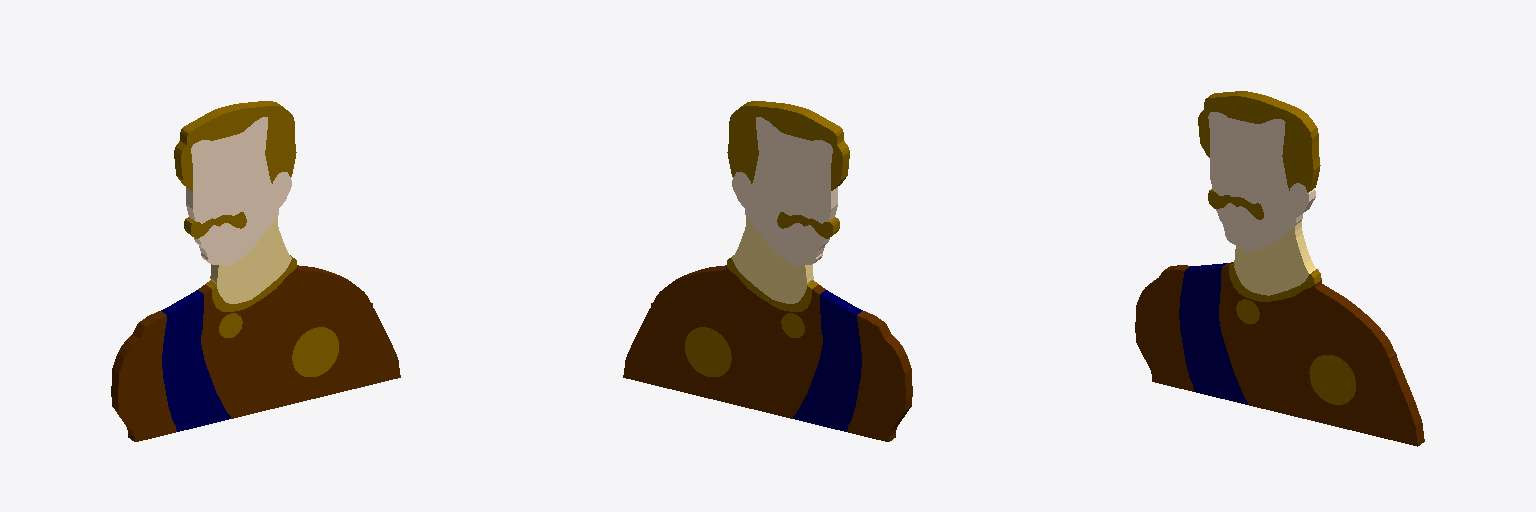
Rendered from 3carlo.obj.
The picture shows the model from 3 angles: view 1: azimuth 30°, elevation 25°; view 2: azimuth 150°, elevation 25°; view 3: azimuth 330°, elevation 25°; orthographic projection.
Parts seen in each view (by area): view 1: Mesh1 Group1 Model; view 2: Mesh1 Group1 Model; view 3: Mesh1 Group1 Model.
Part boxes in pixels (x1,y1,x2,y2): Mesh1 Group1 Model: (111, 101, 400, 441); Mesh1 Group1 Model: (623, 101, 912, 441); Mesh1 Group1 Model: (1135, 91, 1424, 446).
Bounding box in the file's own units: 0.1199 × 0.1245 × 0.005.